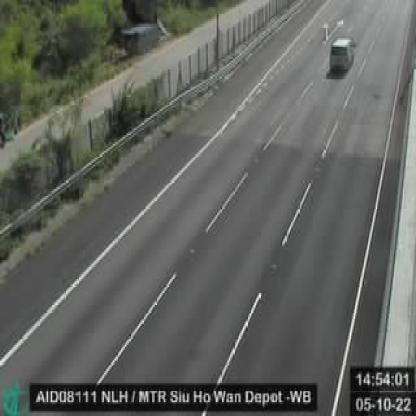Car: (329, 36, 355, 73)
